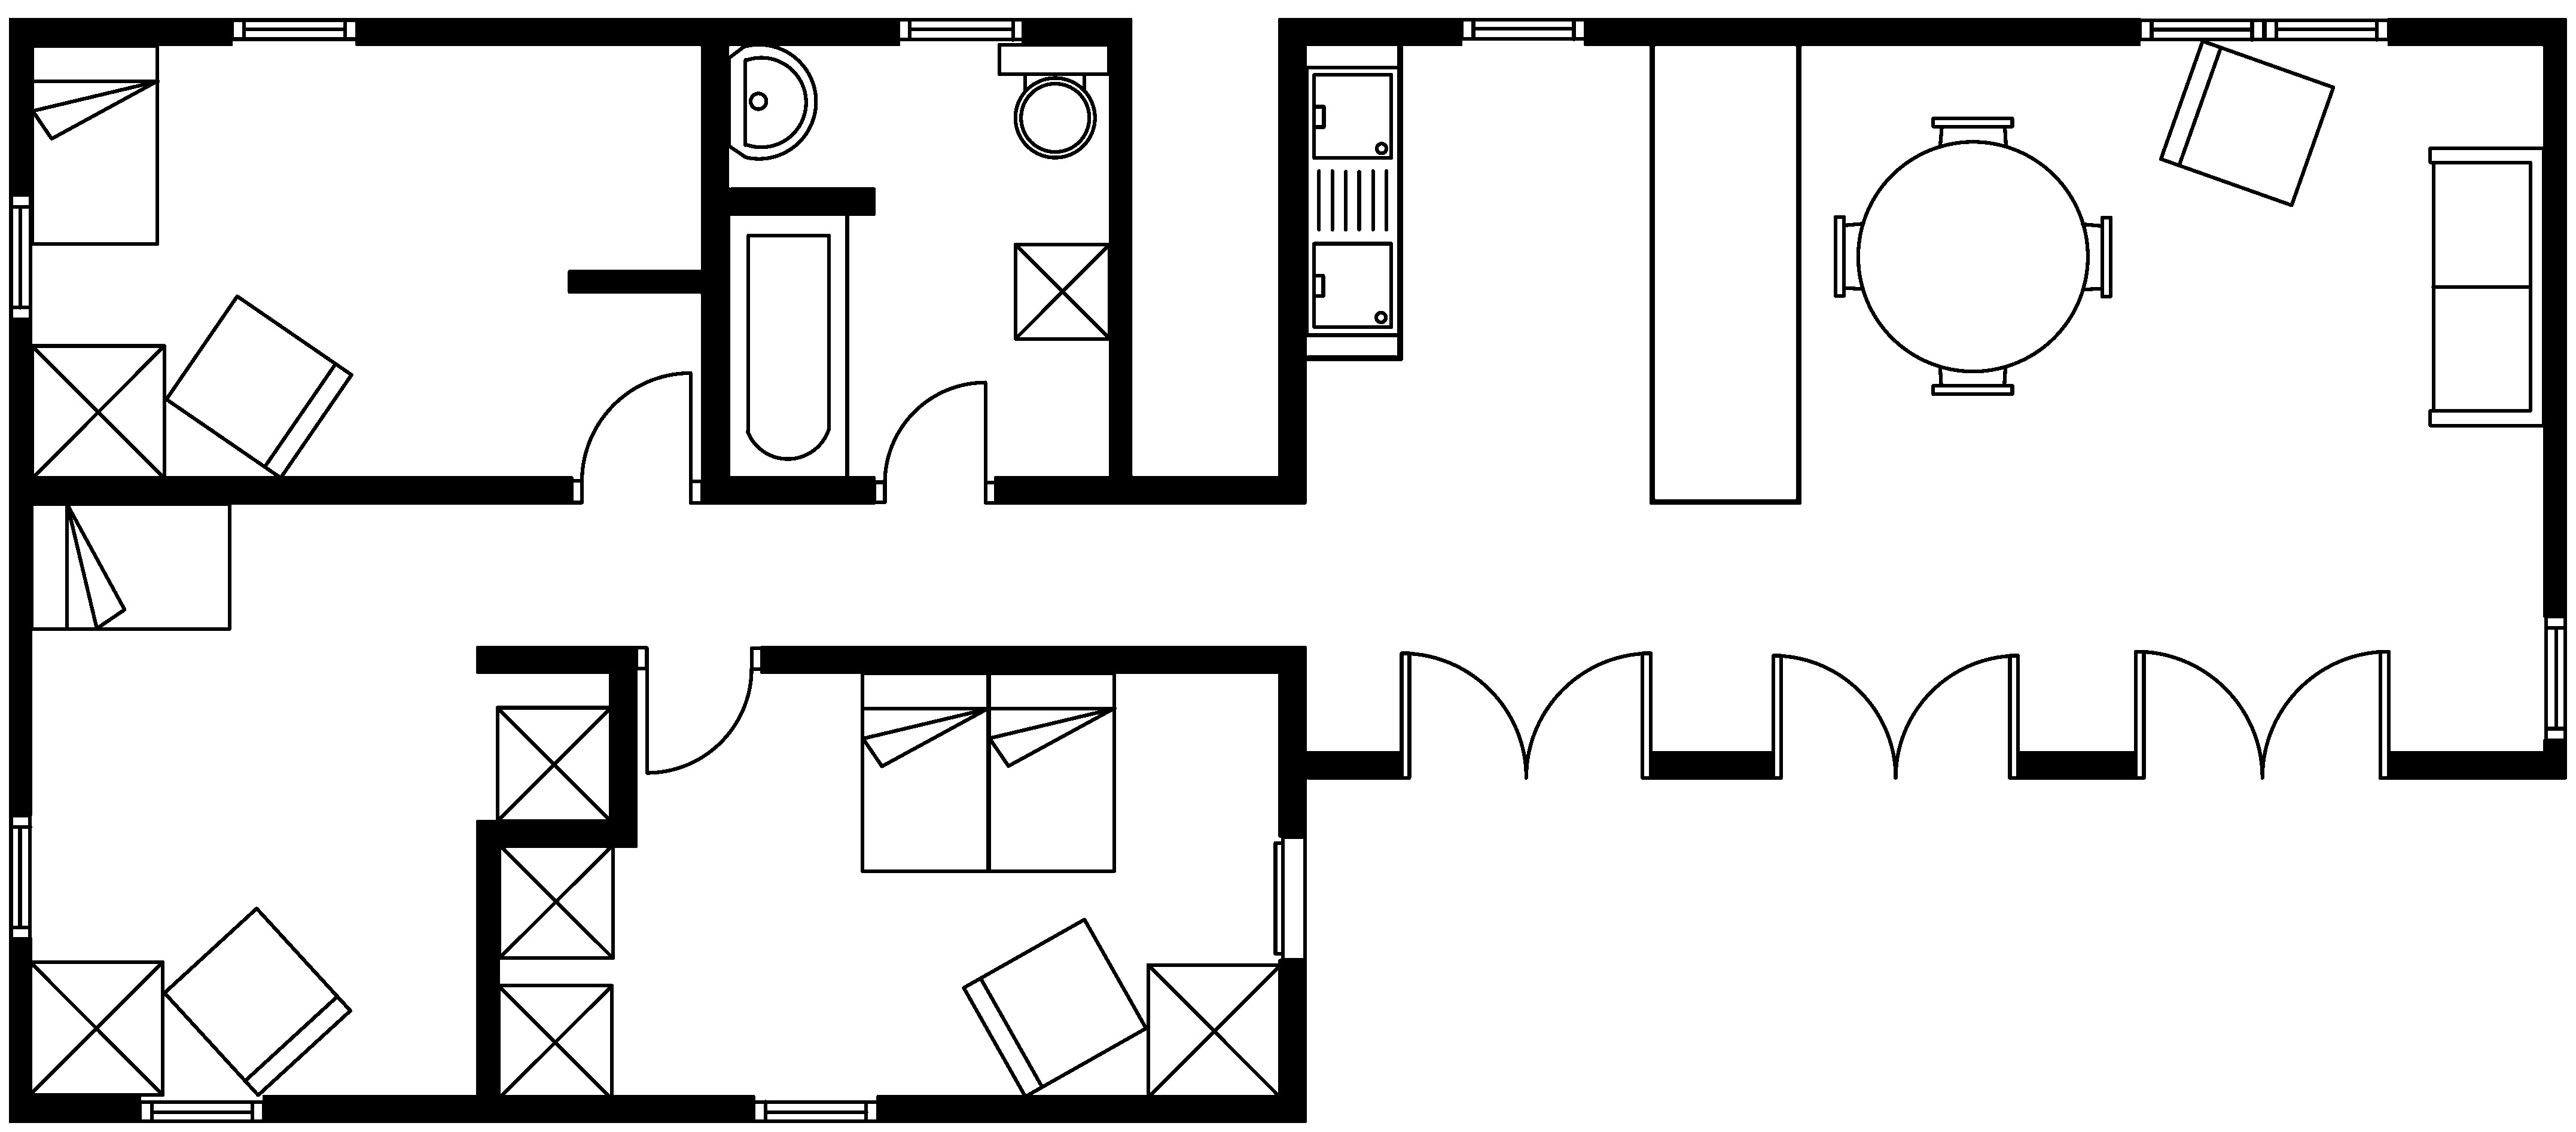bed: (859, 670, 991, 872), (986, 670, 1117, 872), (28, 501, 232, 631), (30, 43, 159, 246)
coffee_table: (26, 959, 164, 1097), (1145, 963, 1283, 1099), (30, 343, 166, 480), (494, 982, 614, 1101), (494, 705, 613, 823), (496, 841, 614, 959), (1012, 242, 1112, 340)
large_sink: (997, 41, 1111, 158)
large_sofa: (2428, 145, 2546, 427)
round_table: (1832, 115, 2113, 396)
small_sink: (726, 43, 816, 159)
small_sofa: (161, 905, 352, 1097), (163, 294, 353, 480), (961, 917, 1148, 1099), (2159, 38, 2336, 207)
tub: (726, 210, 849, 483)
twin_sink: (1304, 64, 1401, 337)
